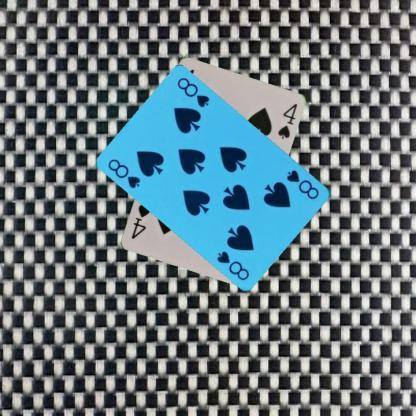8s: (284, 166, 321, 200), (106, 156, 142, 190)
